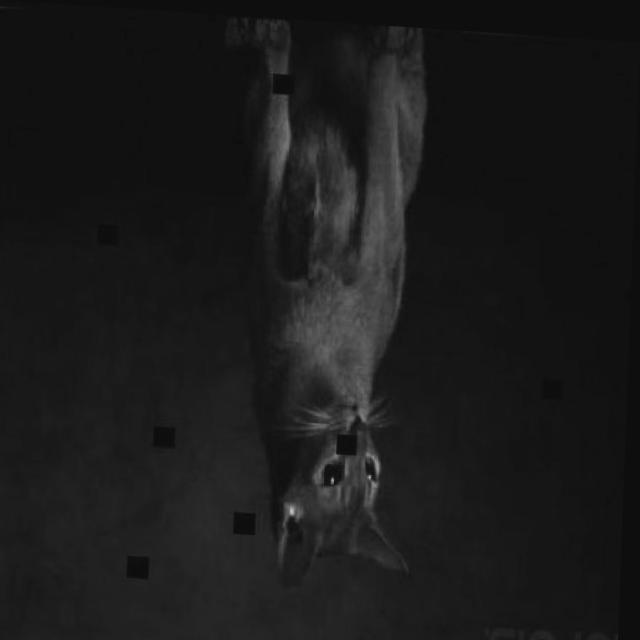Cat: (202, 15, 440, 603)
